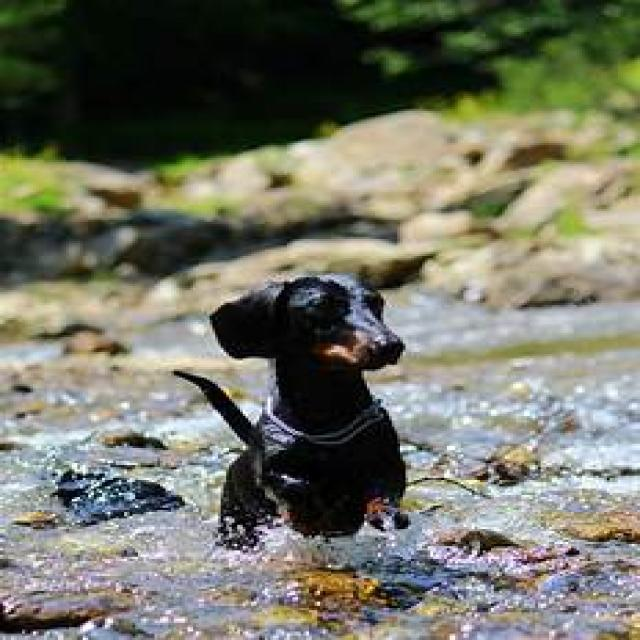animal: (173, 256, 430, 584)
